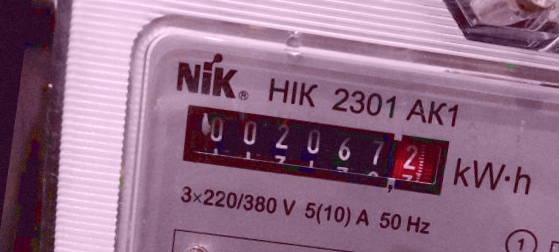0: (205, 113, 227, 144), (239, 115, 260, 146), (302, 124, 323, 154)
2: (399, 140, 421, 171), (272, 120, 293, 151)
6: (334, 131, 356, 162)
7: (366, 136, 386, 168)
screen: (165, 89, 465, 210)
